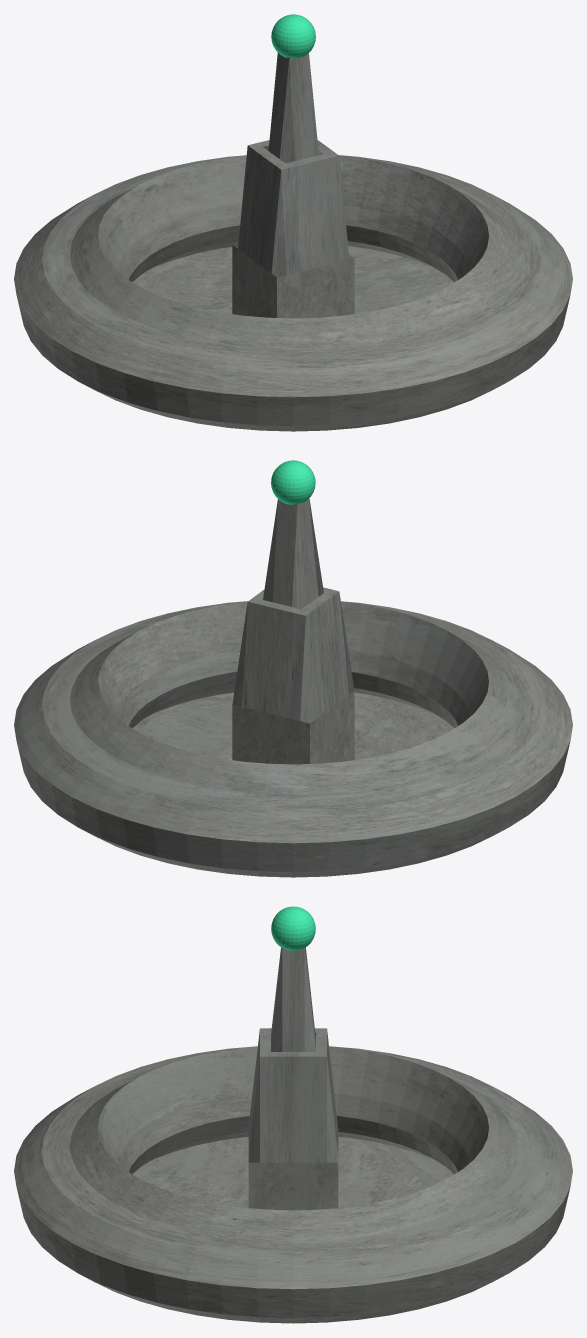
Rendered from Fountain.fbx.
3 renders of one model, top to bottom at view 1: azimuth 30°, elevation 25°; view 2: azimuth 150°, elevation 25°; view 3: azimuth 270°, elevation 25°, orthographic.
Parts seen in each view (by area): view 1: Fountain, FountainCenter, Plane, Sphere; view 2: Fountain, FountainCenter, Plane, Sphere; view 3: Fountain, FountainCenter, Plane, Sphere.
Part boxes in pixels (<box>): Fountain: <box>14,155,572,431</box>; FountainCenter: <box>232,52,354,318</box>; Plane: <box>132,246,454,313</box>; Sphere: <box>271,14,315,58</box>; Fountain: <box>14,601,572,877</box>; FountainCenter: <box>232,498,354,764</box>; Plane: <box>132,692,454,759</box>; Sphere: <box>271,460,315,504</box>; Fountain: <box>14,1046,572,1323</box>; FountainCenter: <box>248,947,338,1210</box>; Plane: <box>132,1137,454,1207</box>; Sphere: <box>271,906,315,950</box>.
Bounding box in the file's own units: 500 × 312 × 500.
